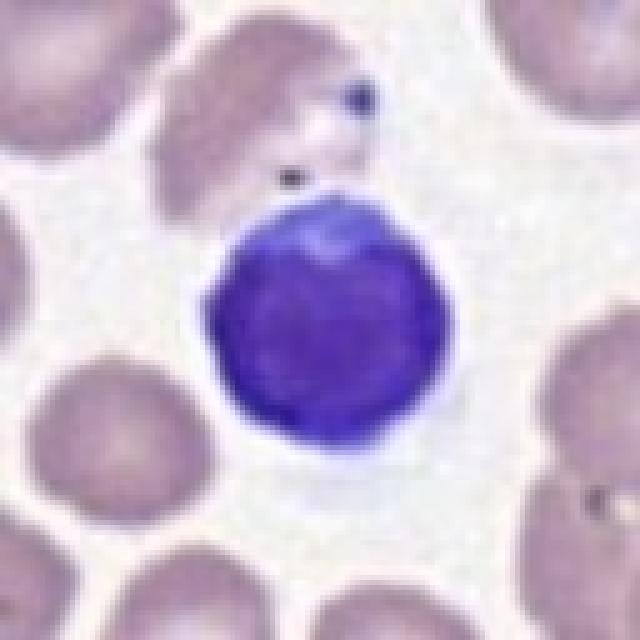lympho: (193, 187, 472, 469)
